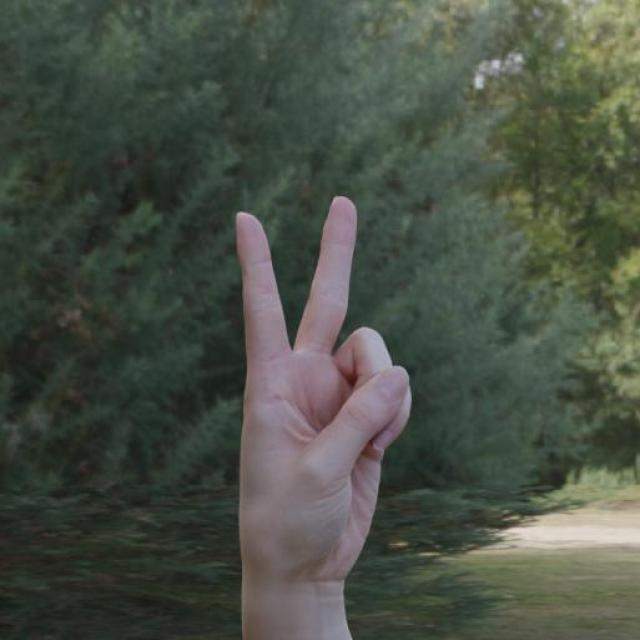V: (223, 186, 422, 589)
